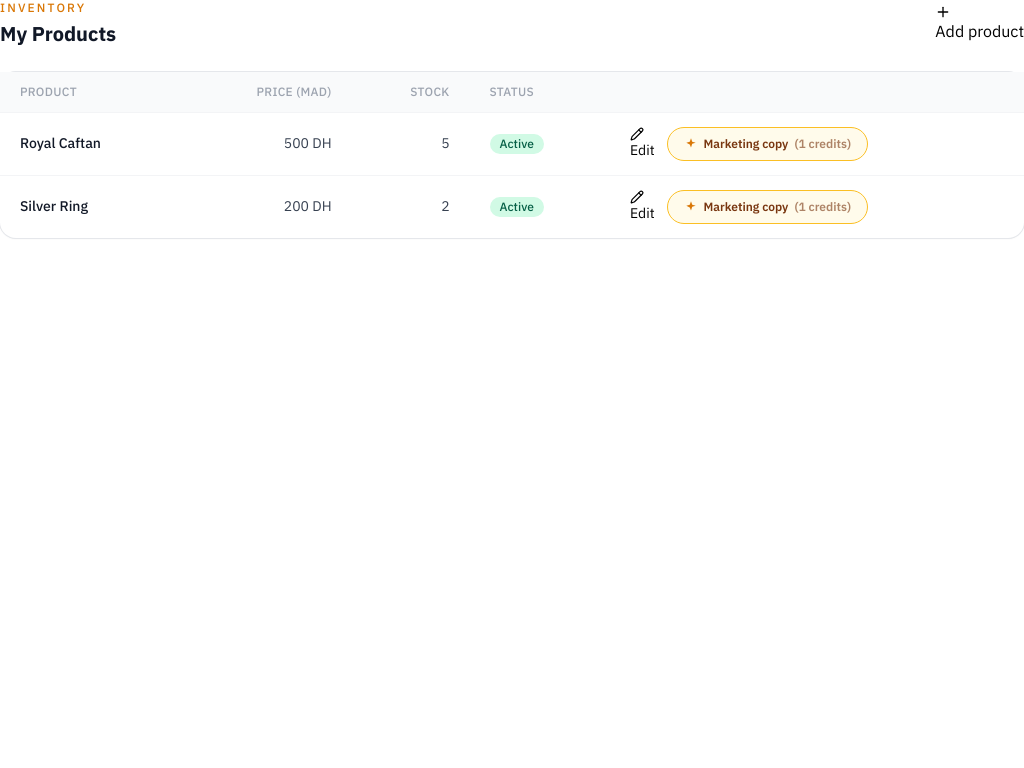
Scenario: SellerProductsPage — Marketing copy › shows a sheet/modal with whatsapp message and social caption after click
expect the text "Royal Caftan" is shown: met, box x1=0 y1=112 x2=180 y2=176
Click the button "Marketing copy (1 credits)" in the row of "Royal Caftan" at (767, 144), box x1=667 y1=127 x2=868 y2=161
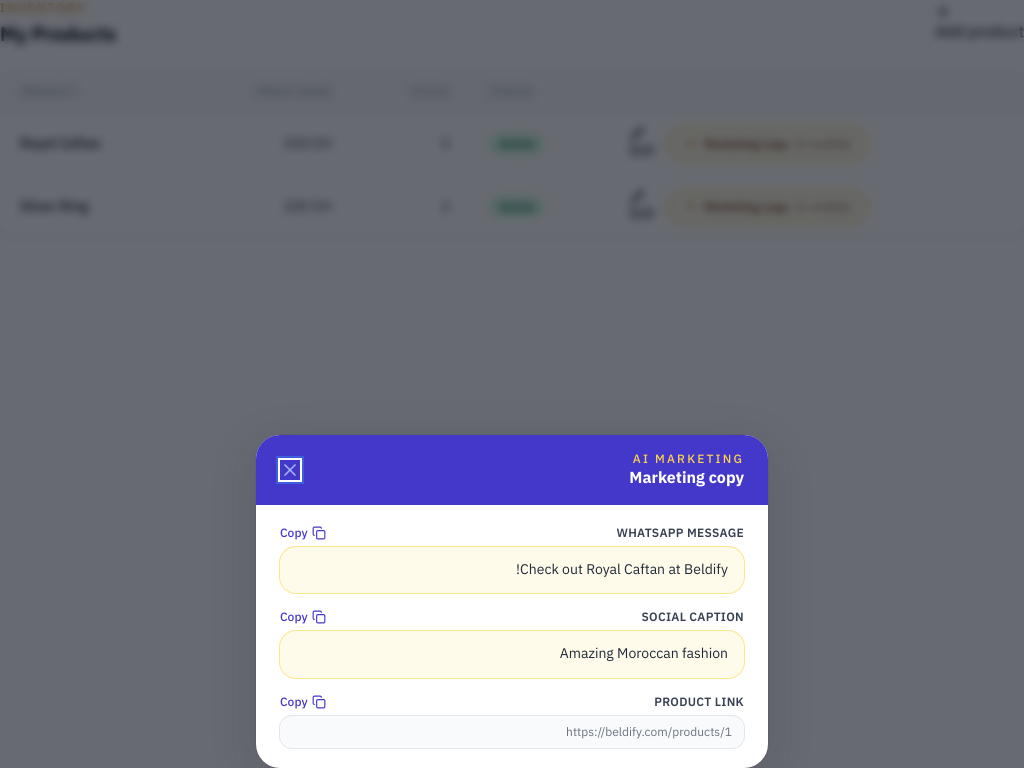
expect the text "Check out Royal Caftan at Beldify!" is shown: met, box x1=280 y1=546 x2=744 y2=593
